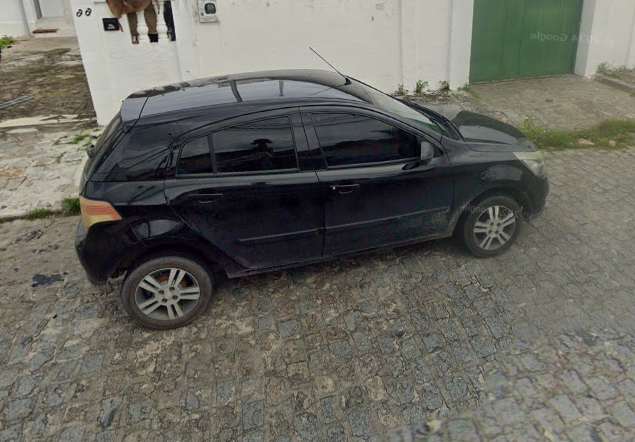car: (68, 45, 553, 331)
